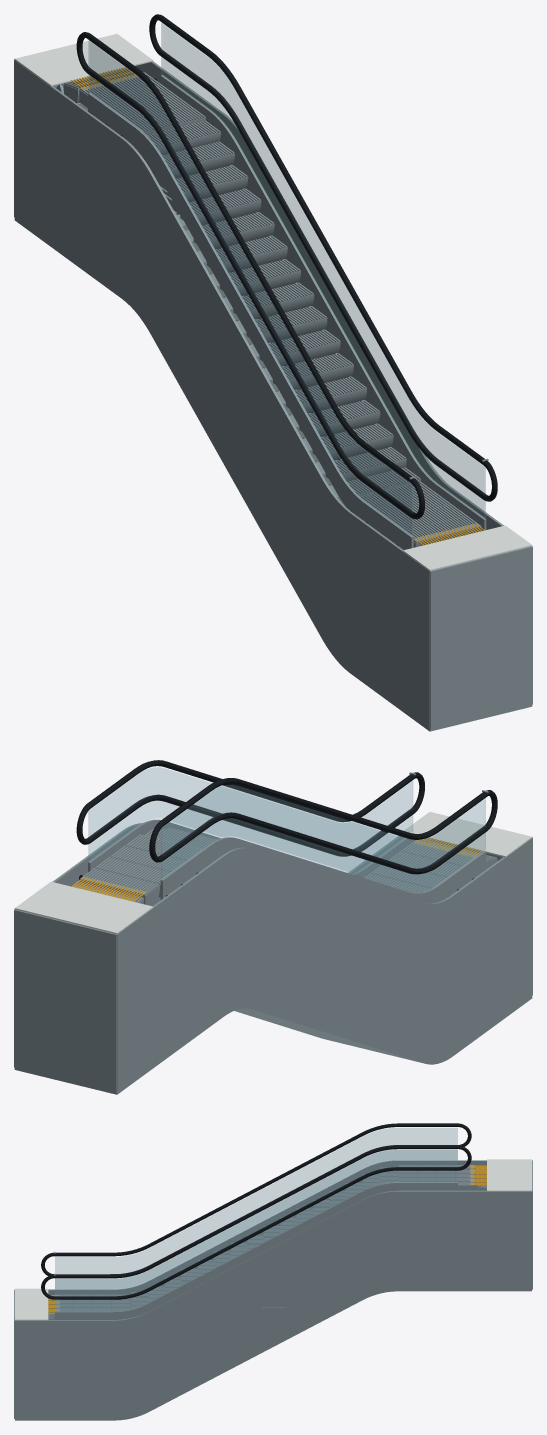
3 views of the same model, one above another, from view 1: azimuth 30°, elevation 25°; view 2: azimuth 150°, elevation 25°; view 3: azimuth 270°, elevation 25° (orthographic). The views are drawn at different scales.
Visible parts, largest first — view 1: TRUSS_L, TRUSS_End_Lower, GUARD_L, GUARD_R, SKIRT_L, HANDRAIL_R, HANDRAIL_L, SKIRT_R, TRUSS_R, LANDING_Upper, LANDING_Lower, TRUSS_Bottom (+20 smaller); view 2: TRUSS_L, TRUSS_End_Upper, GUARD_L, GUARD_R, HANDRAIL_L, HANDRAIL_R, SKIRT_L, LANDING_Upper, TRUSS_Bottom, LANDING_Lower, SKIRT_R, STEP_BODY_23 (+10 smaller); view 3: TRUSS_R, GUARD_R, GUARD_L, HANDRAIL_R, SKIRT_R, SKIRT_L, HANDRAIL_L, LANDING_Upper, TRUSS_Bottom, LANDING_Lower, STEP_BODY_23, MAINTENANCE_Panel.
Boxes of the visible parts, box(x1,y1,x2,y2) form: TRUSS_L: box(14, 60, 429, 728); TRUSS_End_Lower: box(430, 546, 532, 729); GUARD_L: box(88, 41, 412, 535); GUARD_R: box(161, 23, 485, 517); SKIRT_L: box(88, 93, 413, 549); HANDRAIL_R: box(149, 14, 497, 501); HANDRAIL_L: box(76, 32, 424, 519); SKIRT_R: box(160, 75, 486, 530); TRUSS_R: box(135, 61, 503, 529); LANDING_Upper: box(14, 34, 153, 86); LANDING_Lower: box(403, 525, 532, 570); TRUSS_Bottom: box(14, 218, 532, 731); TRUSS_L: box(117, 838, 532, 1091); TRUSS_End_Upper: box(14, 909, 116, 1092); GUARD_L: box(161, 785, 485, 891); GUARD_R: box(88, 767, 412, 873); HANDRAIL_L: box(149, 778, 497, 874); HANDRAIL_R: box(76, 760, 424, 856); SKIRT_L: box(160, 837, 486, 903); LANDING_Upper: box(14, 881, 153, 934); TRUSS_Bottom: box(14, 996, 532, 1094); LANDING_Lower: box(404, 812, 532, 857); SKIRT_R: box(88, 819, 413, 877); STEP_BODY_23: box(79, 868, 160, 905); TRUSS_R: box(15, 1190, 531, 1418); GUARD_R: box(55, 1150, 457, 1310); GUARD_L: box(55, 1128, 457, 1288); HANDRAIL_R: box(41, 1145, 471, 1299); SKIRT_R: box(55, 1182, 457, 1319); SKIRT_L: box(55, 1160, 457, 1303); HANDRAIL_L: box(41, 1123, 471, 1275); LANDING_Upper: box(487, 1159, 531, 1191); TRUSS_Bottom: box(15, 1289, 531, 1420); LANDING_Lower: box(15, 1288, 48, 1320); STEP_BODY_23: box(455, 1165, 474, 1190); MAINTENANCE_Panel: box(261, 1307, 285, 1324).
Size of the model in its own units: 1.57 by 6.28 by 10.92.
